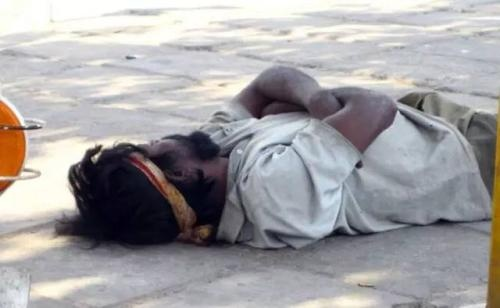falling: (55, 47, 488, 263)
